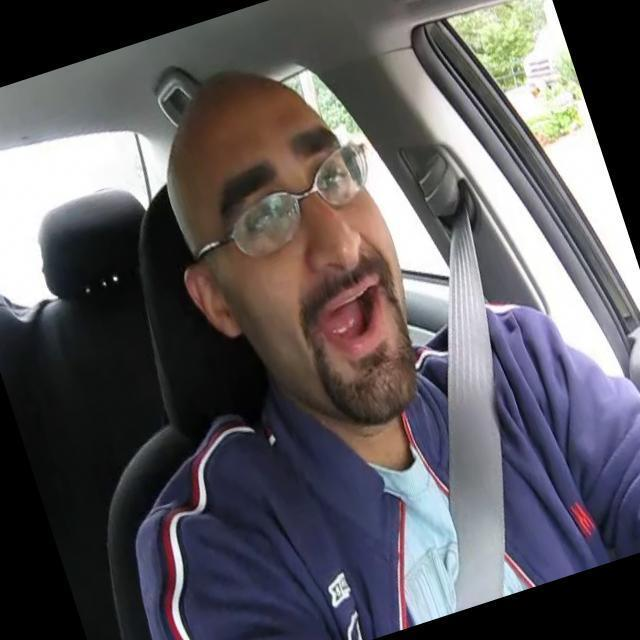open-mouth: (319, 282, 382, 348)
